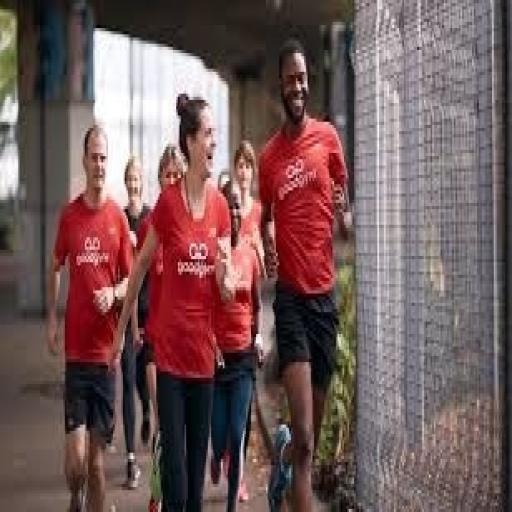running: (108, 90, 239, 509), (256, 34, 354, 509), (45, 119, 136, 509)
